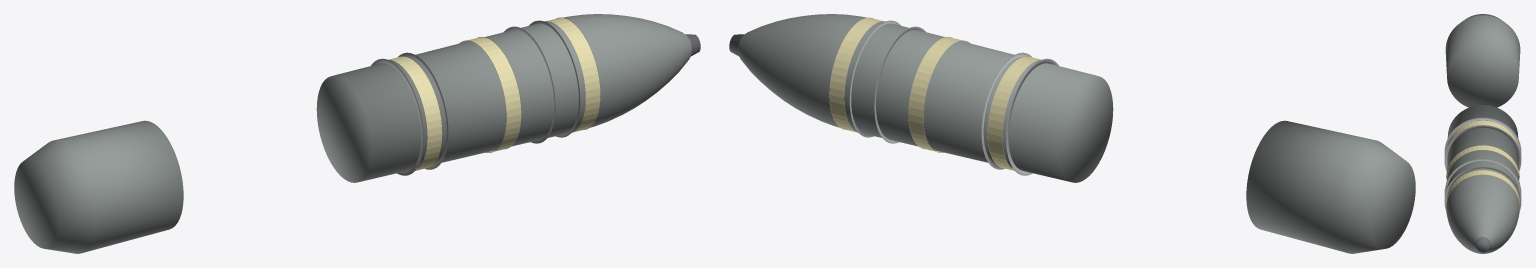
Rendered from RU_SLBM_R39M_LOD0.fbx.
The picture shows the model from 3 angles, left to right: view 1: azimuth 30°, elevation 25°; view 2: azimuth 150°, elevation 25°; view 3: azimuth 270°, elevation 25°; orthographic projection. The views are drawn at different scales.
Parts seen in each view (by area): view 1: WPN_RU_SLBM_R39M_LOD0_Body, WPN_RU_SLBM_R39M_LOD0_Tail, WPN_RU_SLBM_R39M_LOD0_Marking, WPN_RU_SLBM_R39M_LOD0_Detail; view 2: WPN_RU_SLBM_R39M_LOD0_Body, WPN_RU_SLBM_R39M_LOD0_Tail, WPN_RU_SLBM_R39M_LOD0_Marking, WPN_RU_SLBM_R39M_LOD0_Detail; view 3: WPN_RU_SLBM_R39M_LOD0_Body, WPN_RU_SLBM_R39M_LOD0_Tail, WPN_RU_SLBM_R39M_LOD0_Detail, WPN_RU_SLBM_R39M_LOD0_Marking, WPN_RU_SLBM_R39M_LOD0_Nose.
Boxes of the visible parts, bbox=[...] form: WPN_RU_SLBM_R39M_LOD0_Body: bbox=[316, 14, 691, 182]; WPN_RU_SLBM_R39M_LOD0_Tail: bbox=[14, 120, 183, 253]; WPN_RU_SLBM_R39M_LOD0_Marking: bbox=[388, 17, 600, 170]; WPN_RU_SLBM_R39M_LOD0_Detail: bbox=[371, 20, 580, 175]; WPN_RU_SLBM_R39M_LOD0_Body: bbox=[738, 14, 1113, 182]; WPN_RU_SLBM_R39M_LOD0_Tail: bbox=[1246, 120, 1415, 253]; WPN_RU_SLBM_R39M_LOD0_Marking: bbox=[829, 17, 1041, 170]; WPN_RU_SLBM_R39M_LOD0_Detail: bbox=[849, 20, 1058, 175]; WPN_RU_SLBM_R39M_LOD0_Body: bbox=[1446, 105, 1519, 253]; WPN_RU_SLBM_R39M_LOD0_Tail: bbox=[1445, 14, 1520, 107]; WPN_RU_SLBM_R39M_LOD0_Detail: bbox=[1444, 117, 1521, 210]; WPN_RU_SLBM_R39M_LOD0_Marking: bbox=[1446, 120, 1519, 214]; WPN_RU_SLBM_R39M_LOD0_Nose: bbox=[1475, 237, 1490, 252].
Size of the model in its own units: 16 by 2.52 by 2.52.
